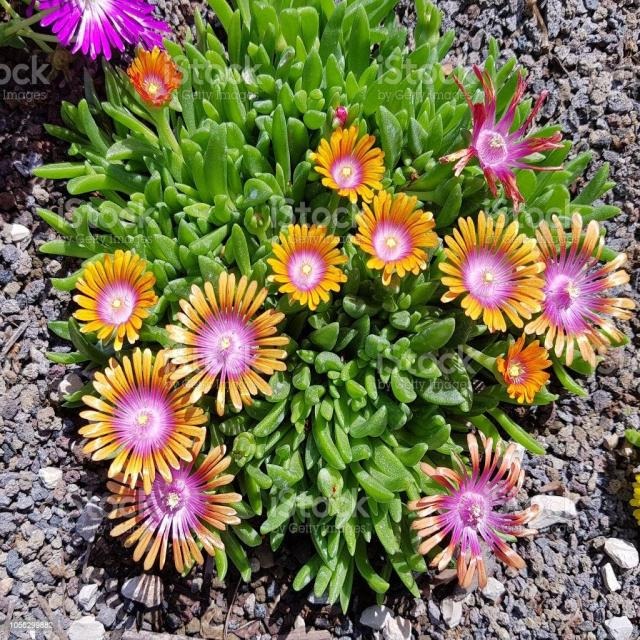organic waste: (95, 424, 245, 569), (150, 274, 296, 419), (76, 349, 205, 494), (504, 212, 630, 360), (408, 434, 529, 582), (439, 204, 541, 325), (460, 88, 556, 191), (67, 248, 160, 354), (353, 188, 445, 288), (40, 2, 167, 59), (264, 219, 350, 302), (312, 117, 390, 202), (120, 42, 182, 117), (484, 331, 546, 406)
